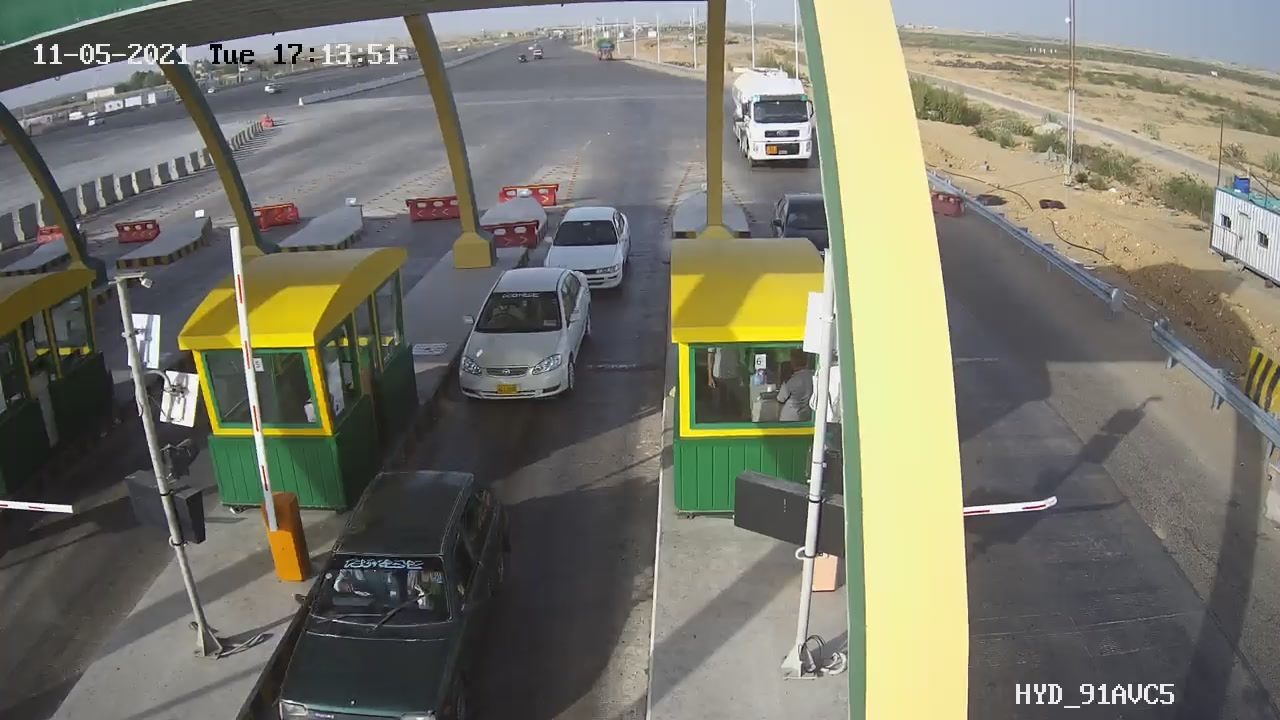F1: (439, 255, 611, 427), (533, 183, 647, 317)
